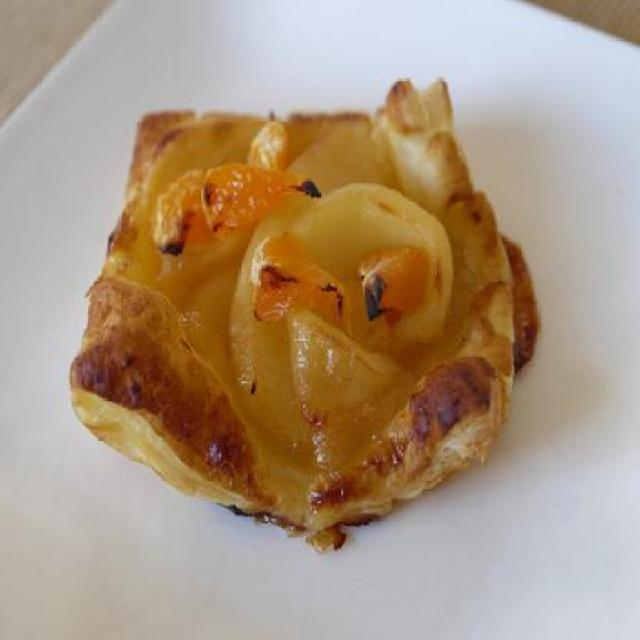Apple: (83, 78, 545, 536)
